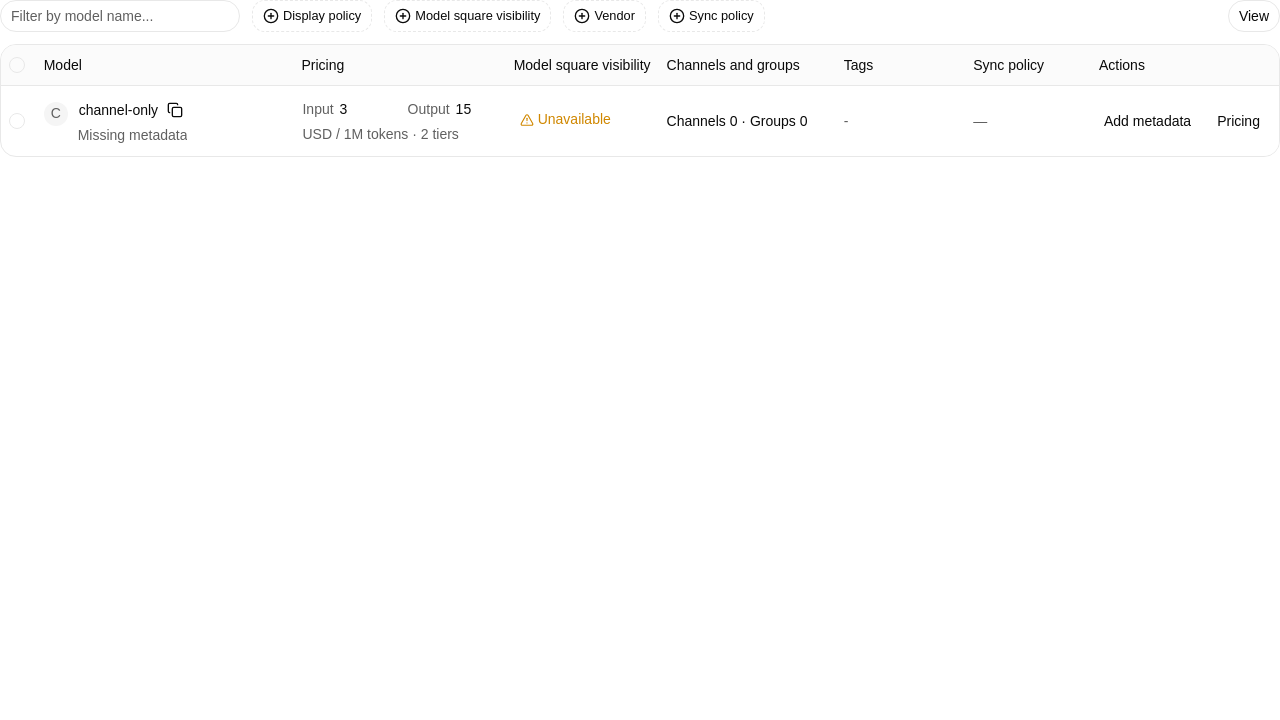
Test: opens the effective expression breakdown from the price without creating metadata
The image size is (1280, 720).
Expected: the button "channel-only" is shown, [78,98,159,120]
Click the button with aria-label "View pricing for channel-only".
click(400, 121)  # box [302,94,498,148]
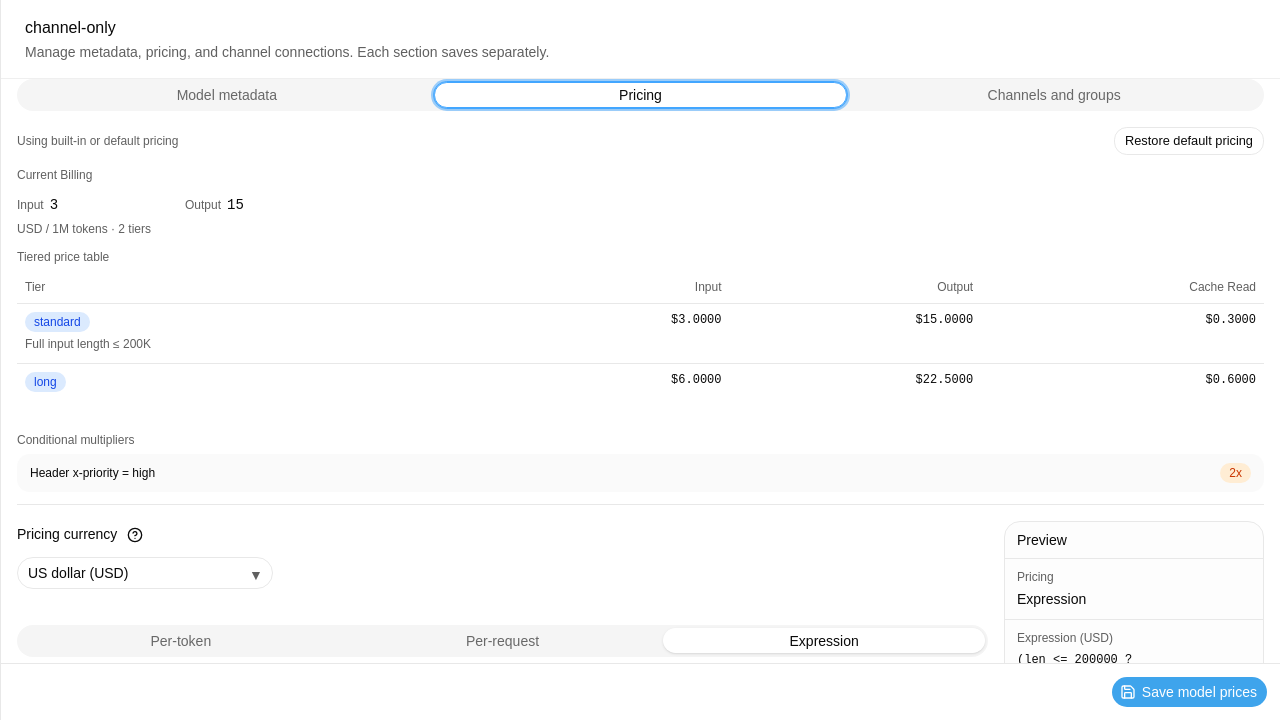
Expected: the element "Current Billing" shows "standard", [34,315,81,329]
Expected: the element "Current Billing" shows "long", [34,375,57,389]
Expected: the element "Current Billing" shows "0.3", [17,167,1264,504]
